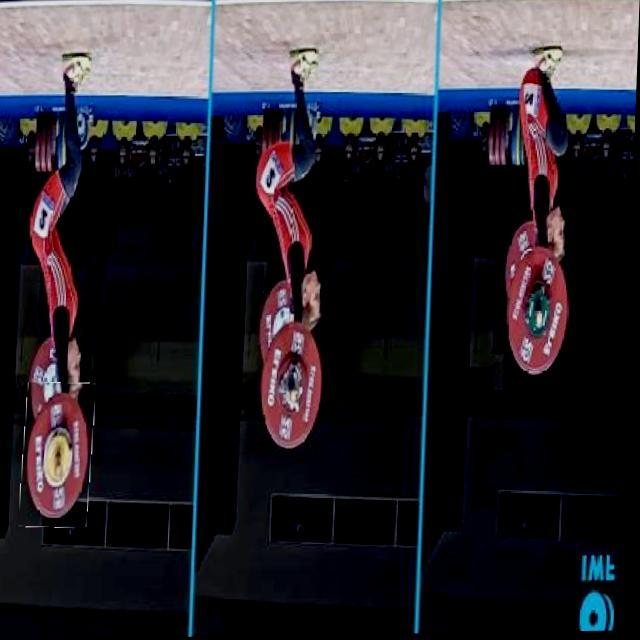barbell: (25, 383, 99, 529)
